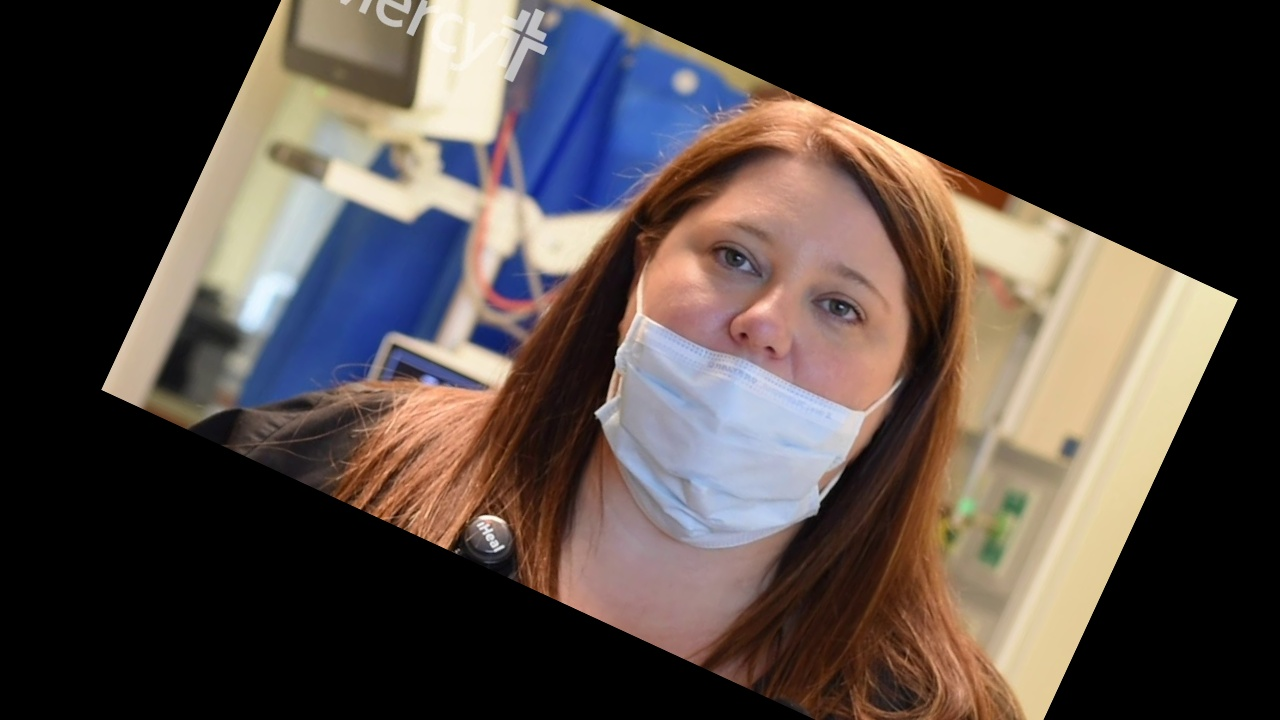mask_weared_incorrect: (610, 135, 907, 547)
